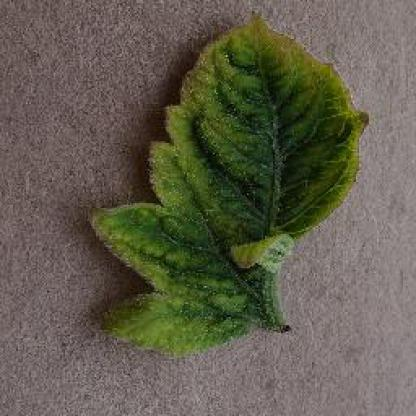bad leaf: (165, 9, 369, 252)
